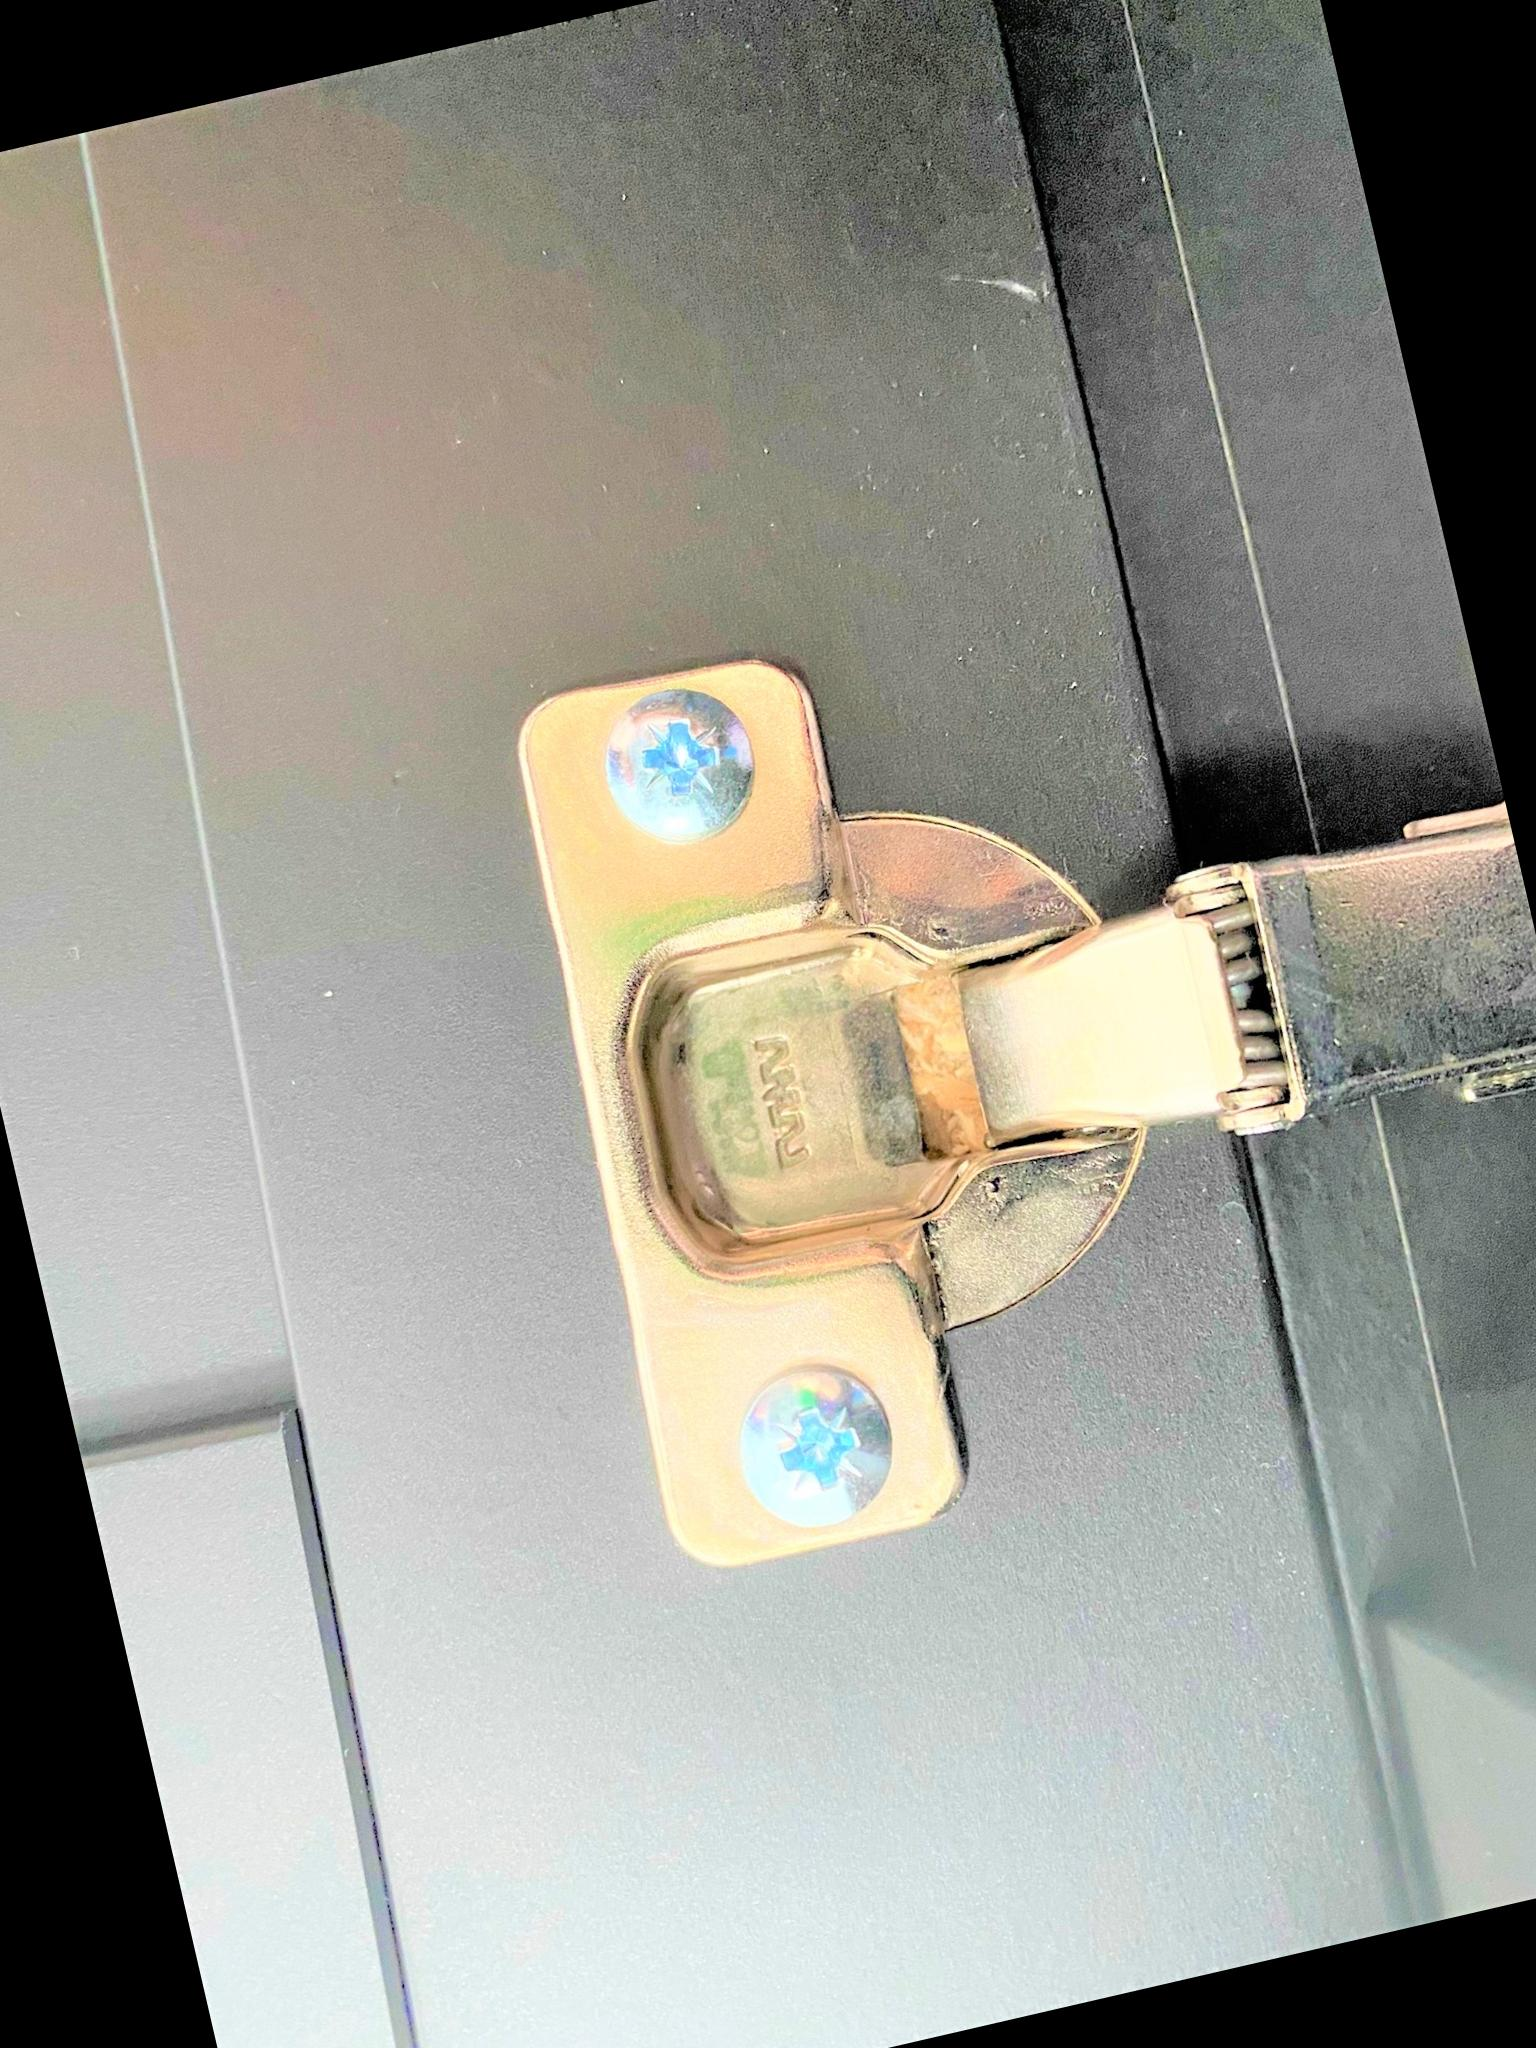PH: (721, 1350, 907, 1543), (586, 669, 771, 860)
